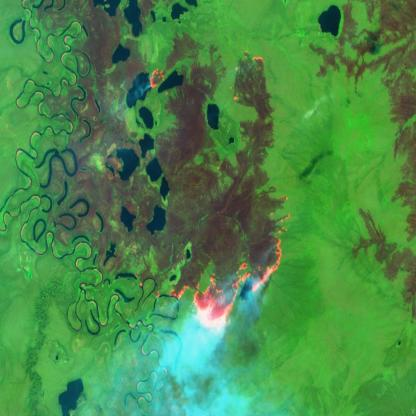fire: (154, 211, 293, 335)
